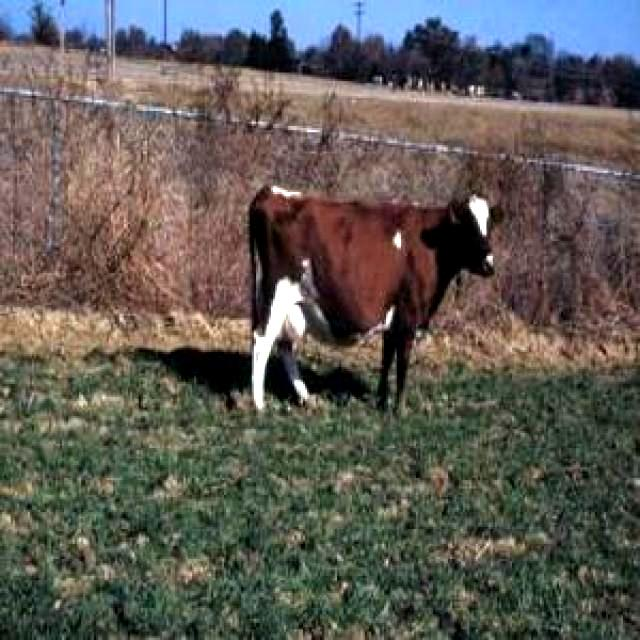COW: (250, 186, 492, 408)
